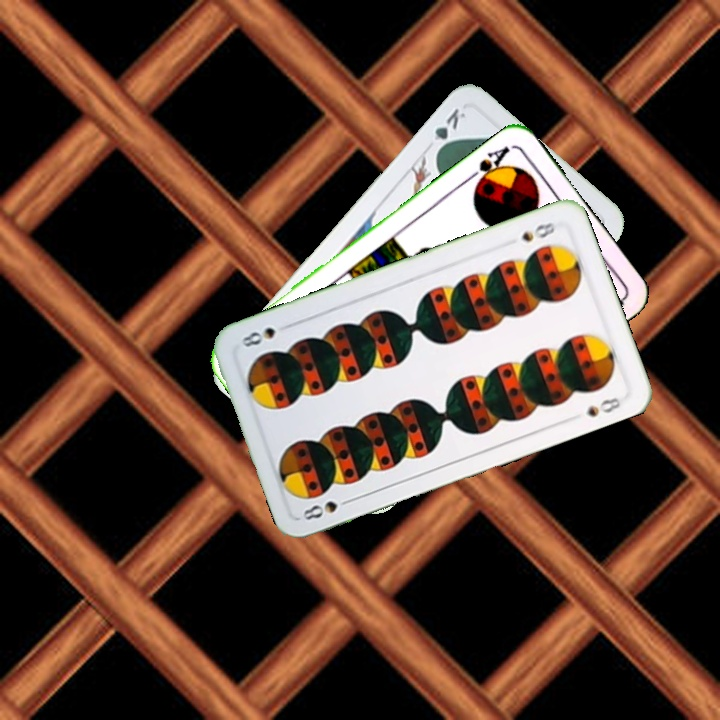GK: (428, 104, 468, 157)
S8: (298, 493, 356, 523), (517, 218, 558, 245)
SA: (462, 141, 513, 192)
